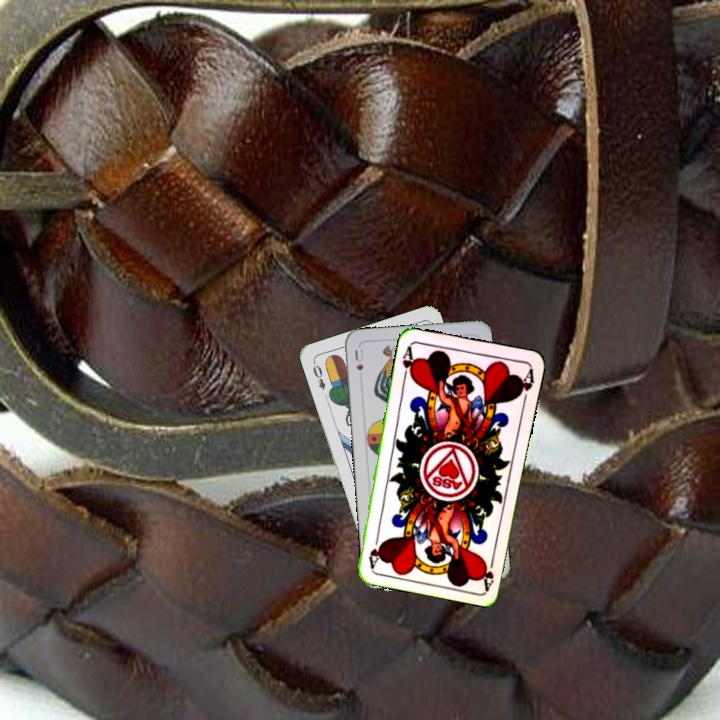EO: (309, 357, 328, 393)
HA: (398, 342, 418, 382), (478, 550, 497, 591)
SU: (351, 344, 366, 384)
